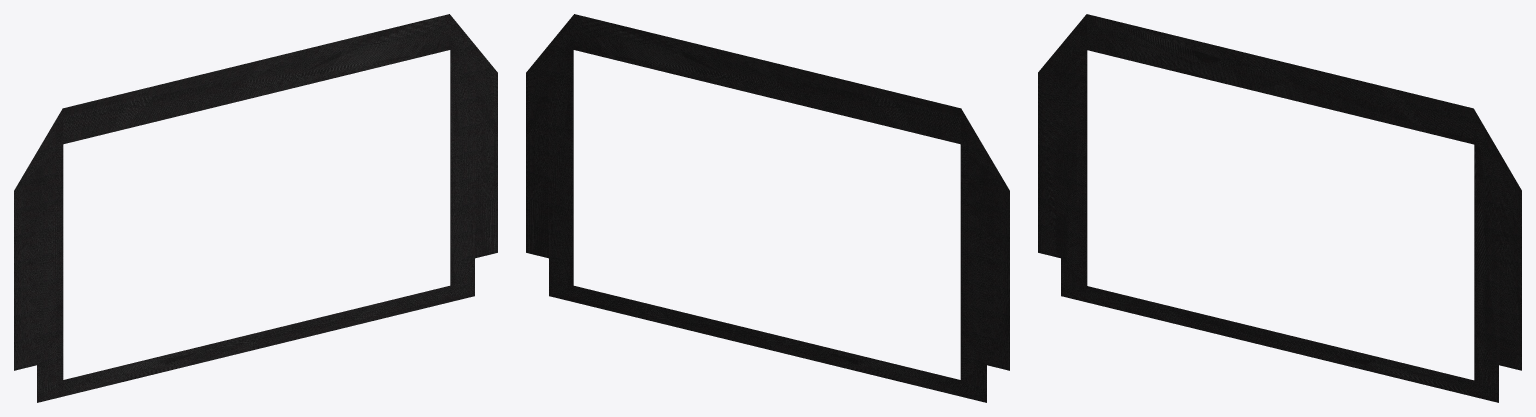
The model's file is original-151.obj.
The picture shows the model from 3 angles, left to right: view 1: azimuth 30°, elevation 25°; view 2: azimuth 150°, elevation 25°; view 3: azimuth 330°, elevation 25°; orthographic projection.
Parts seen in each view (by area): view 1: mesh46/mesh46-geometry/material_11/component_0#mesh46-geometry; view 2: mesh46/mesh46-geometry/material_11/component_0#mesh46-geometry; view 3: mesh46/mesh46-geometry/material_11/component_0#mesh46-geometry.
Part boxes in pixels (box(x1,y1,x2,y2)): mesh46/mesh46-geometry/material_11/component_0#mesh46-geometry: box(14, 14, 497, 402); mesh46/mesh46-geometry/material_11/component_0#mesh46-geometry: box(526, 14, 1009, 402); mesh46/mesh46-geometry/material_11/component_0#mesh46-geometry: box(1038, 14, 1521, 402).
Size of the model in its own units: 0.4053 by 0.2308 by 0.
Materials: 2 (1 with a texture image).
